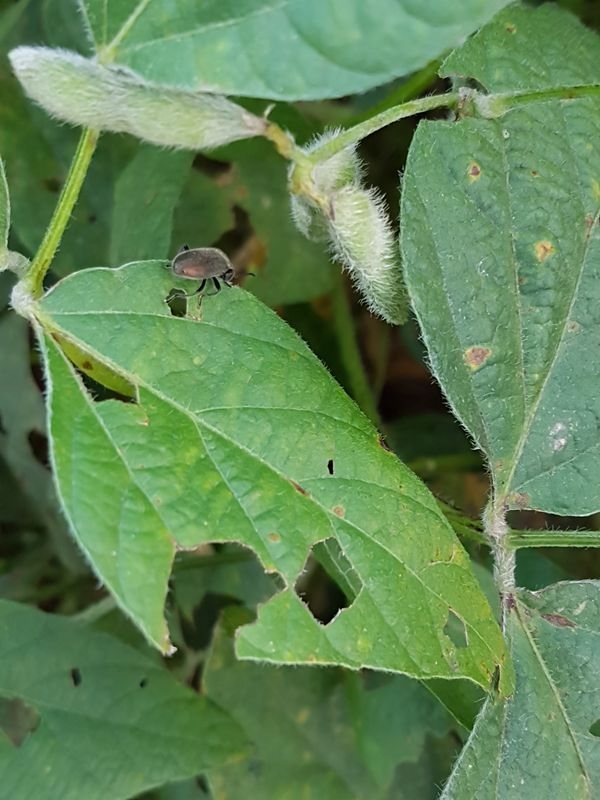Lagria_villosa: (154, 231, 260, 322)
